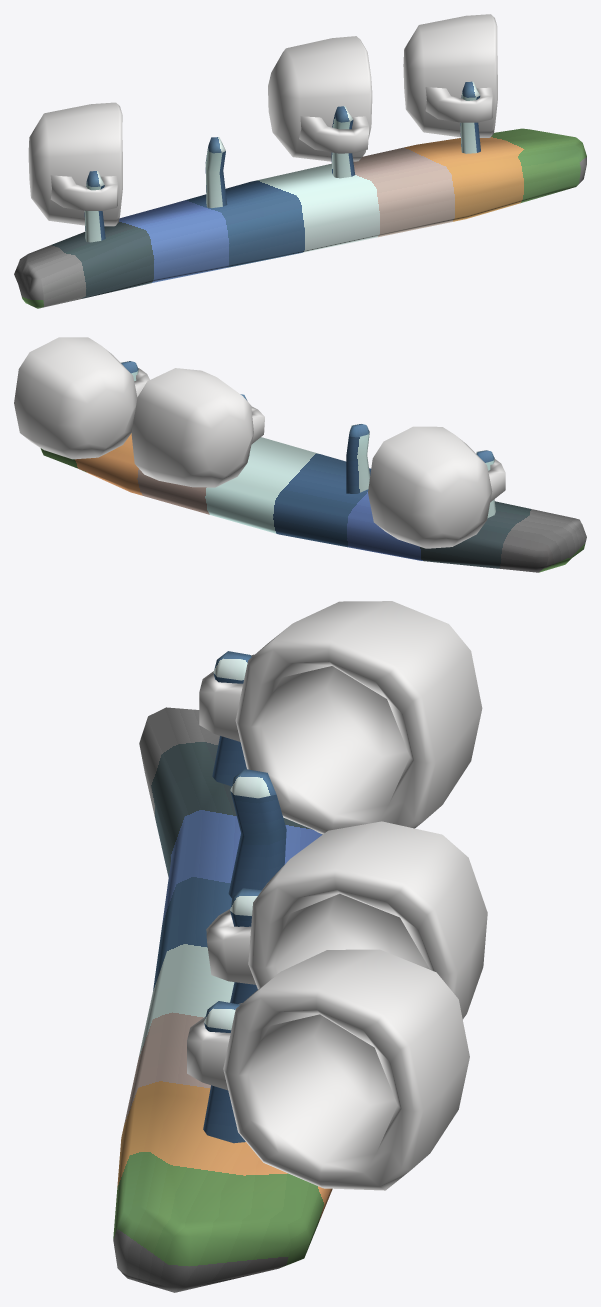
The model's file is P_StoneWallMugRack.glb.
The picture shows the model from 3 angles, top to bottom: view 1: azimuth 30°, elevation 25°; view 2: azimuth 150°, elevation 25°; view 3: azimuth 270°, elevation 25°; orthographic projection. The views are drawn at different scales.
Parts seen in each view (by area): view 1: P_StoneWallMugRack; view 2: P_StoneWallMugRack; view 3: P_StoneWallMugRack.
Boxes of the visible parts, left/top/right/bottom form: P_StoneWallMugRack: left=14, top=14, right=586, bottom=308; P_StoneWallMugRack: left=14, top=337, right=586, bottom=572; P_StoneWallMugRack: left=113, top=601, right=487, bottom=1292.
Size of the model in its own units: 1.05 by 0.2587 by 0.315.
1 material, 1 textured.
